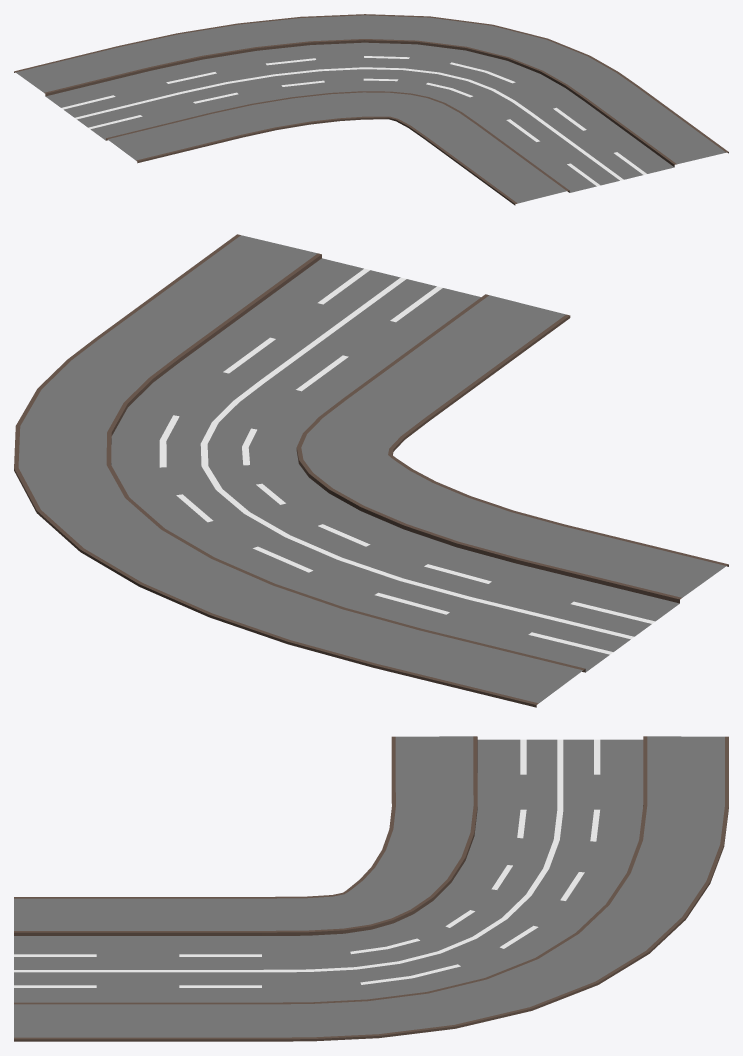
Rendered from SM_Road_P60.fbx.
3 views of the same model, one above another, from view 1: azimuth 30°, elevation 25°; view 2: azimuth 150°, elevation 25°; view 3: azimuth 270°, elevation 25° (orthographic). The views are drawn at different scales.
Parts seen in each view (by area): view 1: SM_Road_P60; view 2: SM_Road_P60; view 3: SM_Road_P60.
Part boxes in pixels (x1=…): SM_Road_P60: x1=14, y1=14, x2=728, y2=205; SM_Road_P60: x1=14, y1=234, x2=728, y2=707; SM_Road_P60: x1=14, y1=736, x2=728, y2=1041.
Size of the model in its own units: 5277 by 28.46 by 5269.
